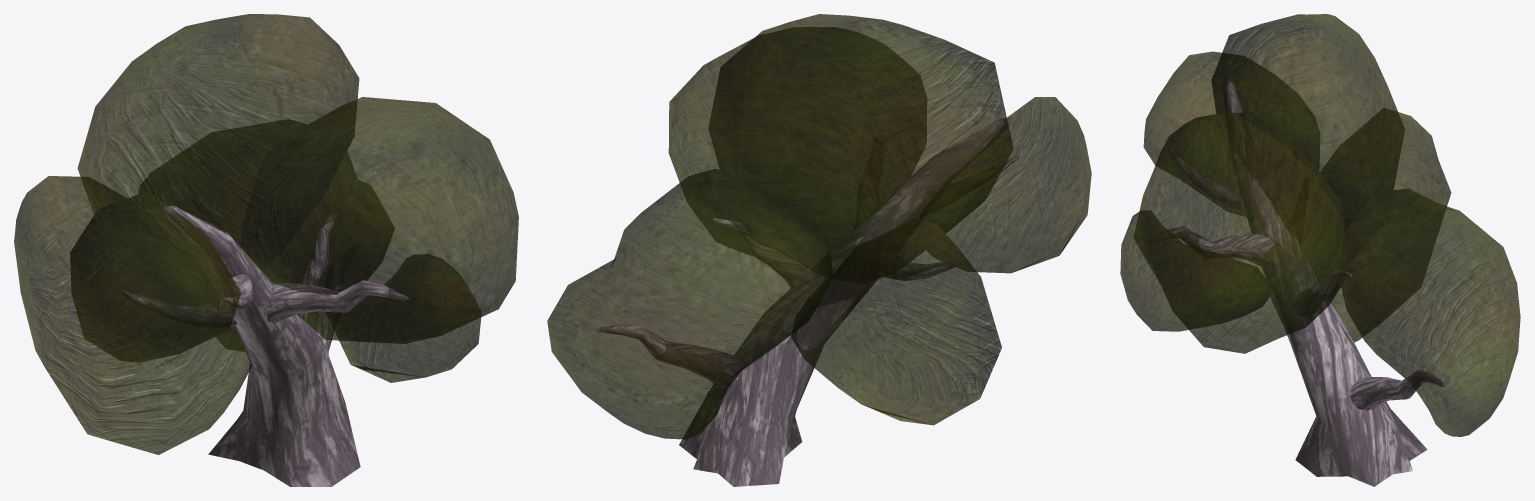
File: tree02.glb
The picture shows the model from 3 angles, left to right: view 1: azimuth 30°, elevation 25°; view 2: azimuth 150°, elevation 25°; view 3: azimuth 270°, elevation 25°; orthographic projection. The views are drawn at different scales.
Visible parts, largest first — view 1: Tree02; view 2: Tree02; view 3: Tree02.
Boxes of the visible parts, x1,y1,x2,y2 form: Tree02: [14, 14, 518, 486]; Tree02: [547, 14, 1091, 486]; Tree02: [1120, 14, 1520, 486].
Bounding box in the file's own units: 5.88 × 6.07 × 5.57.
2 materials, 2 textured.
